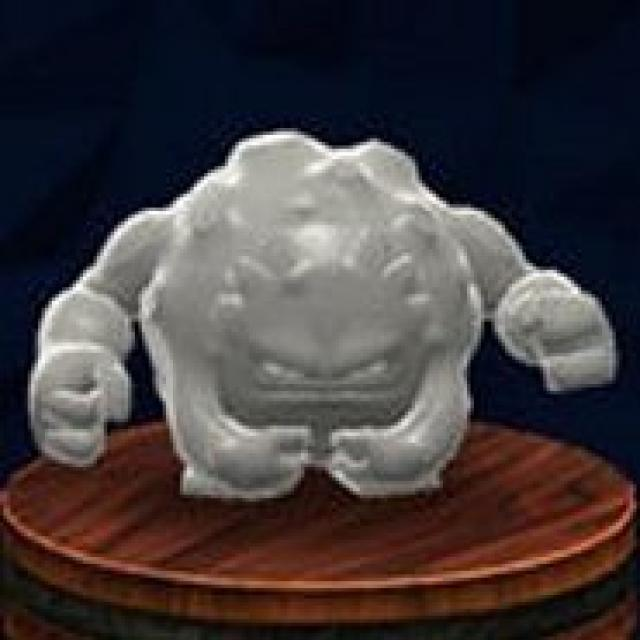Graveler: (22, 138, 628, 510)
